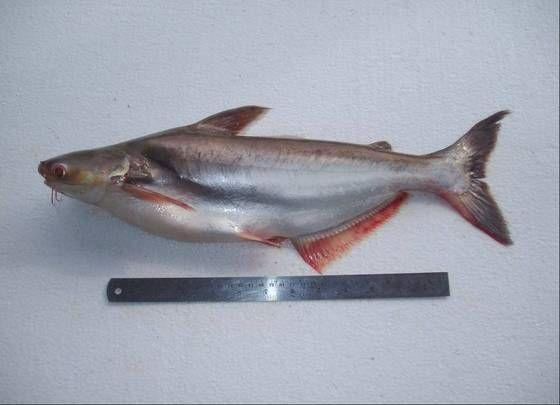Pangasius: (34, 102, 516, 274)
